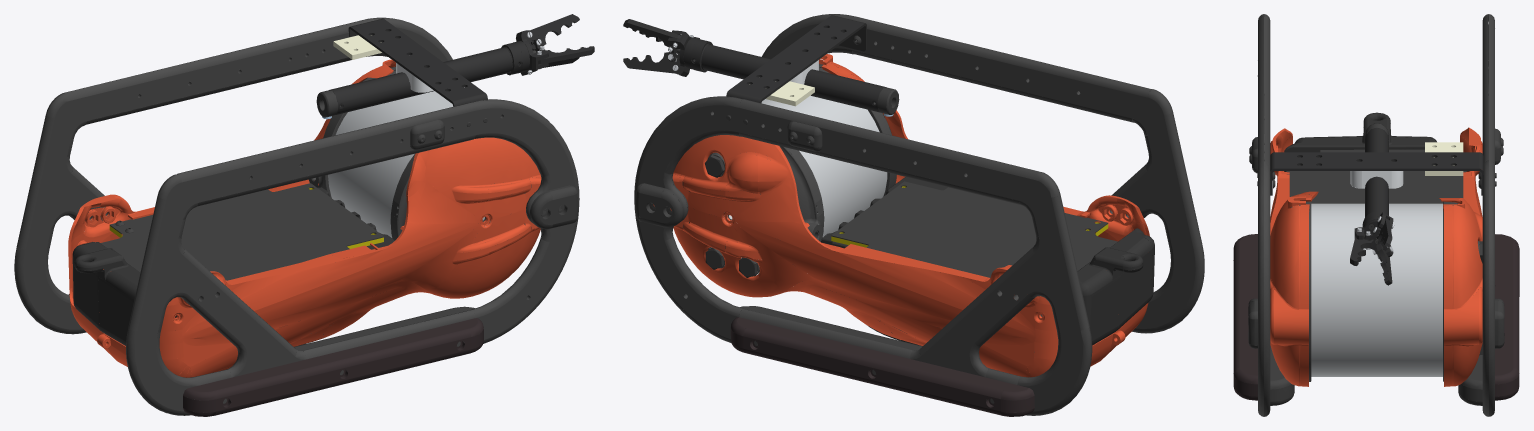
File: LBV150_karrasg.dae
3 renders of one model, left to right at view 1: azimuth 30°, elevation 25°; view 2: azimuth 150°, elevation 25°; view 3: azimuth 270°, elevation 25°, orthographic.
Visible parts, largest first — view 1: Seabotix_LBV150_003; view 2: Seabotix_LBV150_003; view 3: Seabotix_LBV150_003.
Part boxes in pixels (box(x1,y1,x2,y2)): Seabotix_LBV150_003: box(14, 14, 594, 416); Seabotix_LBV150_003: box(623, 14, 1204, 416); Seabotix_LBV150_003: box(1233, 14, 1519, 416).
Size of the model in its own units: 0.53 by 0.254 by 0.245.
